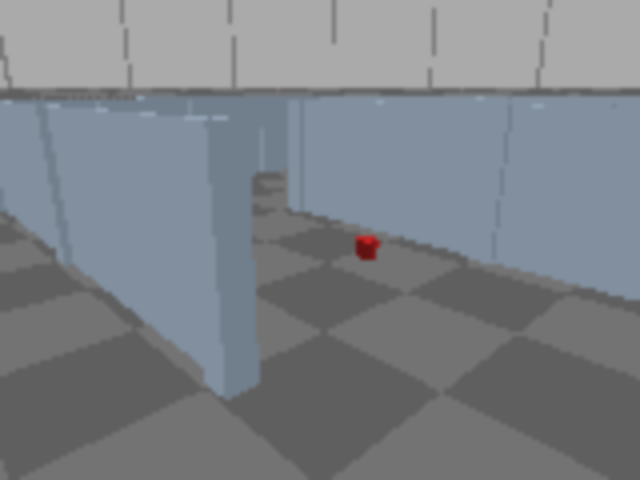puck: (359, 236, 375, 258)
